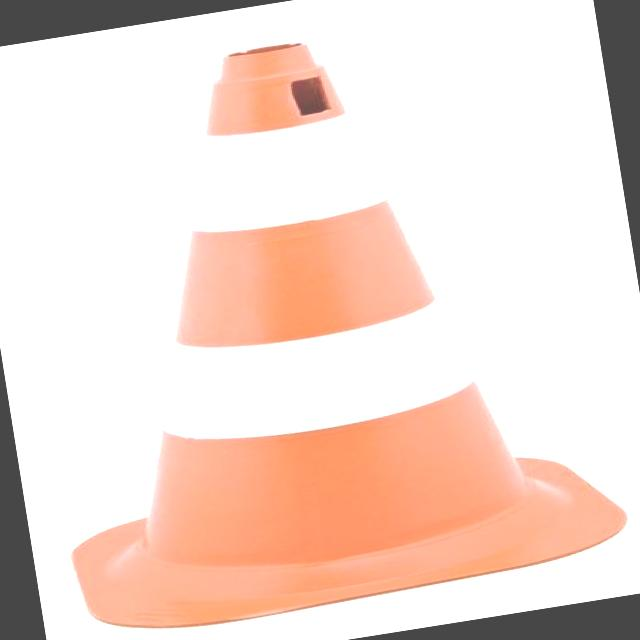cone: (12, 0, 619, 640)
